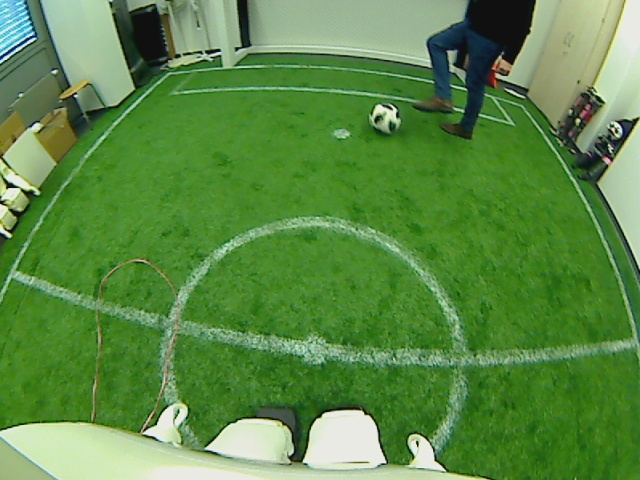ball: (368, 101, 402, 136)
